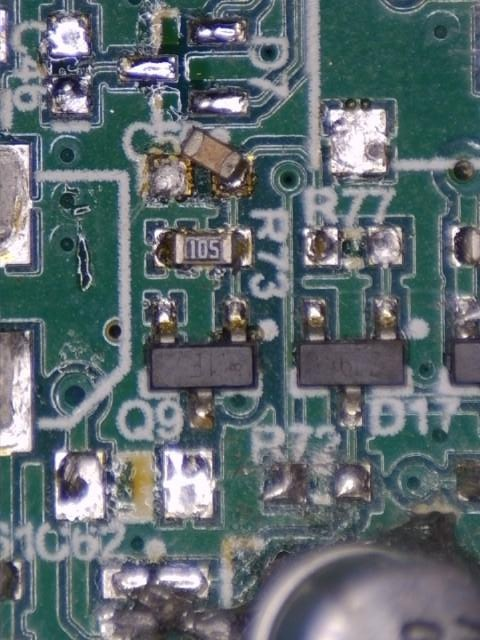pcb_defect: (150, 299, 259, 429), (147, 127, 253, 198)
